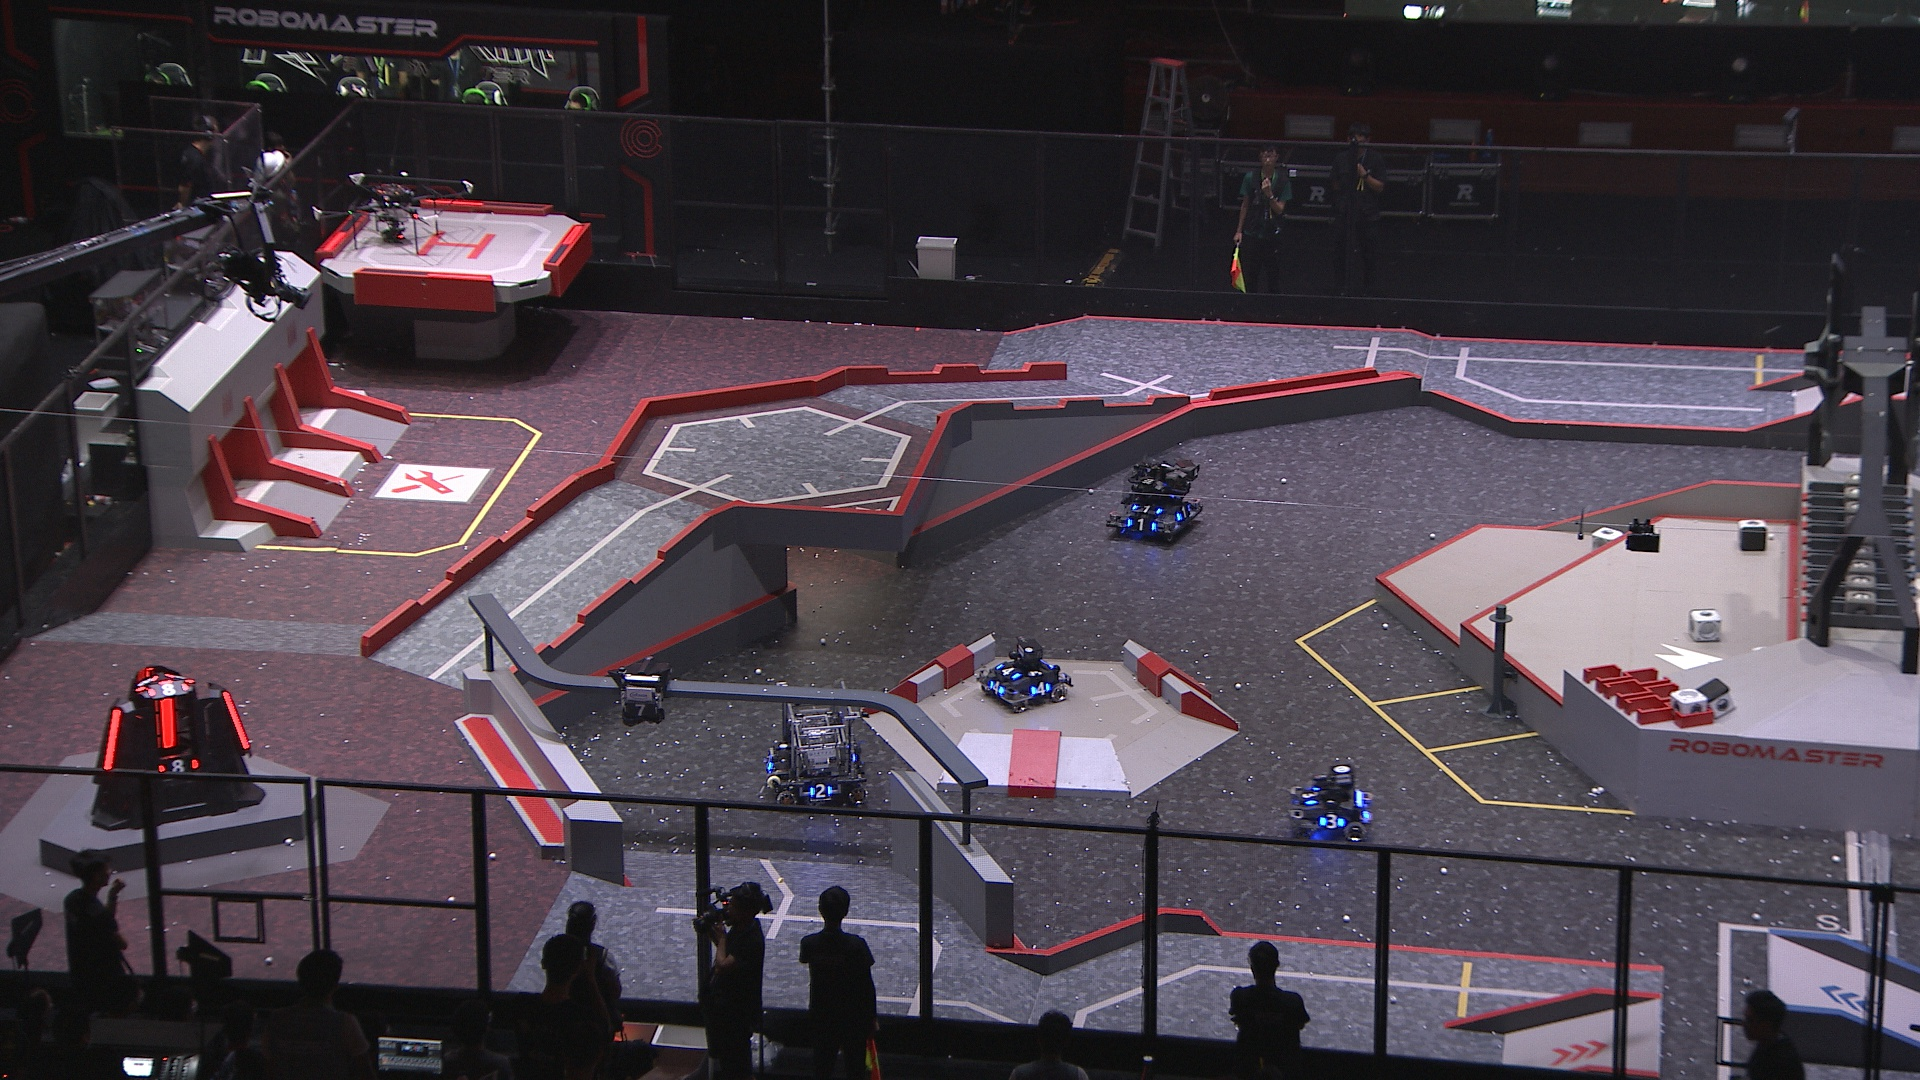armor: (220, 688, 251, 752), (98, 708, 123, 773), (154, 698, 181, 754), (154, 756, 200, 773), (146, 680, 190, 698), (1127, 502, 1167, 517), (1125, 517, 1159, 533), (624, 702, 657, 717), (996, 662, 1022, 680), (806, 782, 833, 799), (1317, 815, 1346, 829), (1174, 504, 1195, 524), (1030, 680, 1054, 698), (1299, 789, 1319, 807), (986, 680, 1006, 698)
base: (87, 665, 266, 831)
car: (764, 678, 866, 807), (1102, 456, 1205, 543), (972, 638, 1072, 713), (1284, 764, 1377, 843)
watcher: (609, 654, 670, 727)
